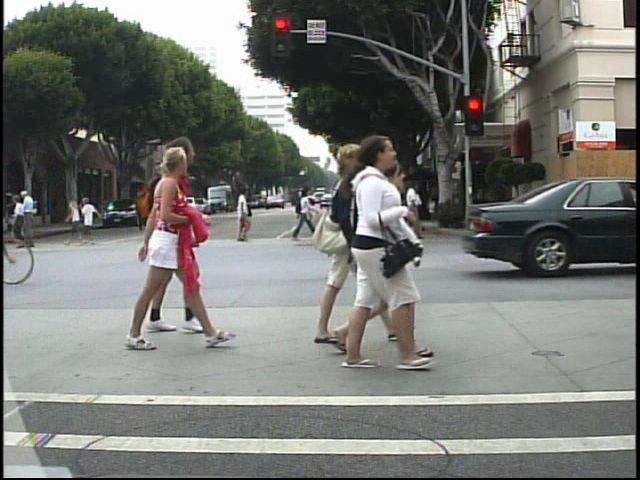person: (345, 137, 417, 375), (130, 150, 212, 358), (350, 160, 427, 370), (168, 140, 222, 338), (311, 146, 359, 362), (227, 185, 257, 251), (289, 183, 318, 248), (402, 177, 428, 245), (21, 188, 43, 248), (13, 195, 31, 250), (369, 187, 385, 223)
